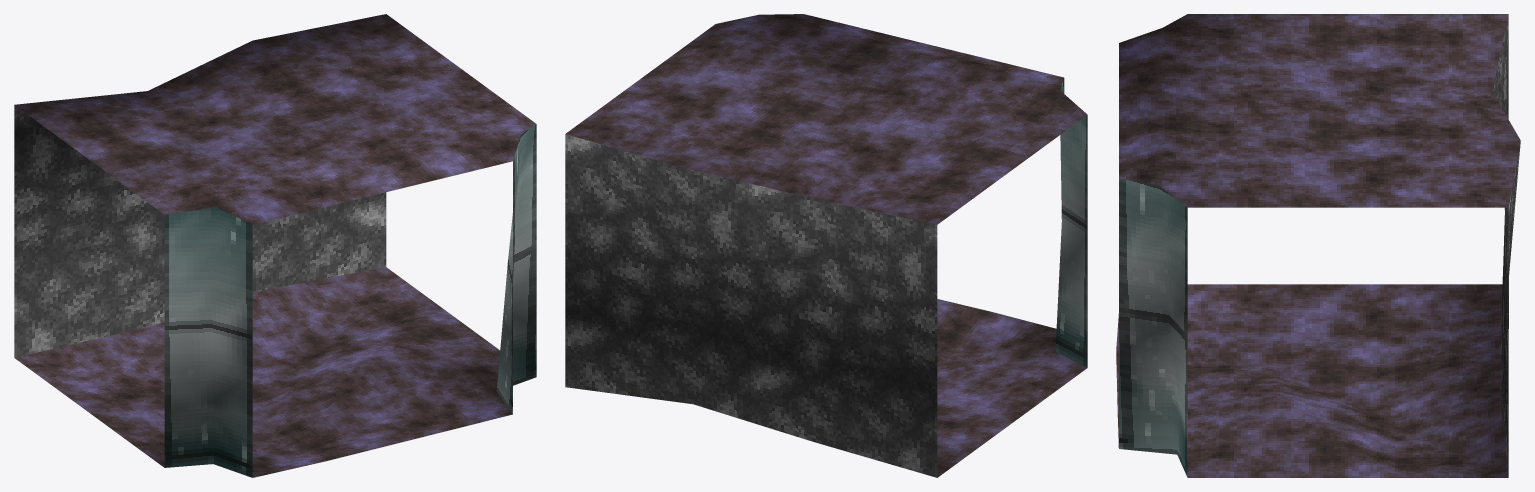
The model's file is T Piece.fbx.
3 renders of one model, left to right at view 1: azimuth 30°, elevation 25°; view 2: azimuth 150°, elevation 25°; view 3: azimuth 270°, elevation 25°, orthographic. The views are drawn at different scales.
Visible parts, largest first — view 1: T Piece; view 2: T Piece; view 3: T Piece.
Boxes of the visible parts, <box> form: T Piece: <box>14,14,536,477</box>; T Piece: <box>565,14,1087,477</box>; T Piece: <box>1116,14,1520,477</box>.
Bounding box in the file's own units: 200 × 140 × 176.
